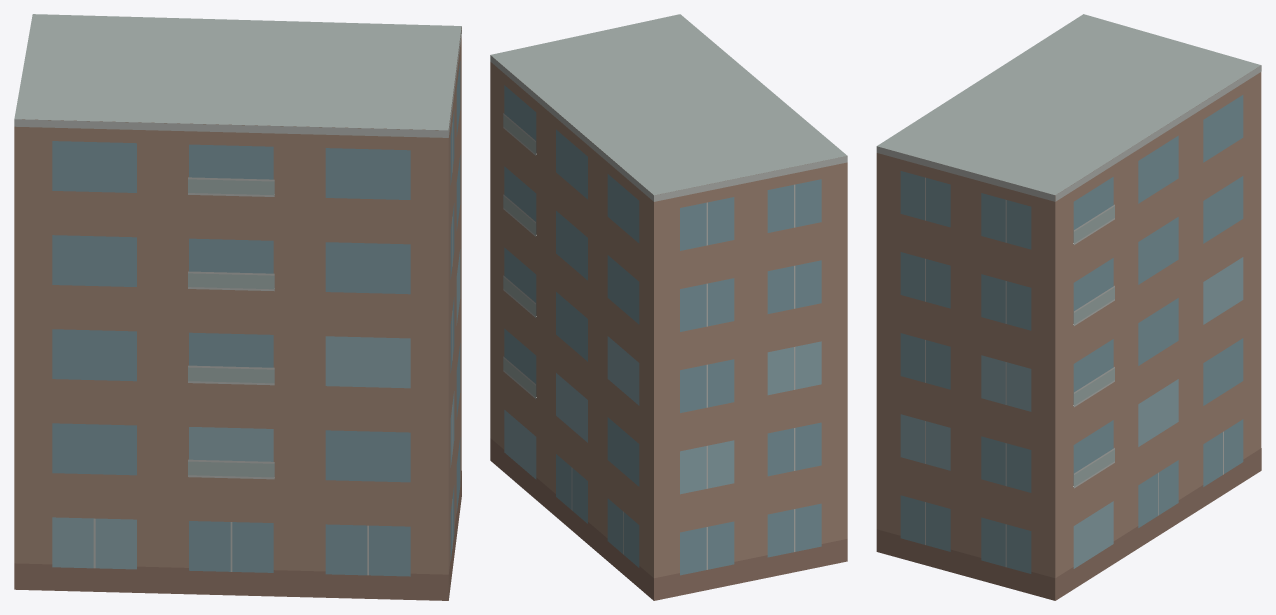
The model's file is survey-upis-32887637.glb.
3 views of the same model, side by side, from view 1: azimuth 30°, elevation 25°; view 2: azimuth 150°, elevation 25°; view 3: azimuth 270°, elevation 25° (orthographic). The views are drawn at different scales.
Visible parts, largest first — view 1: survey-upis-32887637.tmp; view 2: survey-upis-32887637.tmp; view 3: survey-upis-32887637.tmp.
Part boxes in pixels (x1,y1,x2,y2): survey-upis-32887637.tmp: [14, 14, 461, 600]; survey-upis-32887637.tmp: [490, 14, 847, 600]; survey-upis-32887637.tmp: [876, 14, 1261, 600].
Size of the model in its own units: 14.48 by 15.1 by 12.99.
